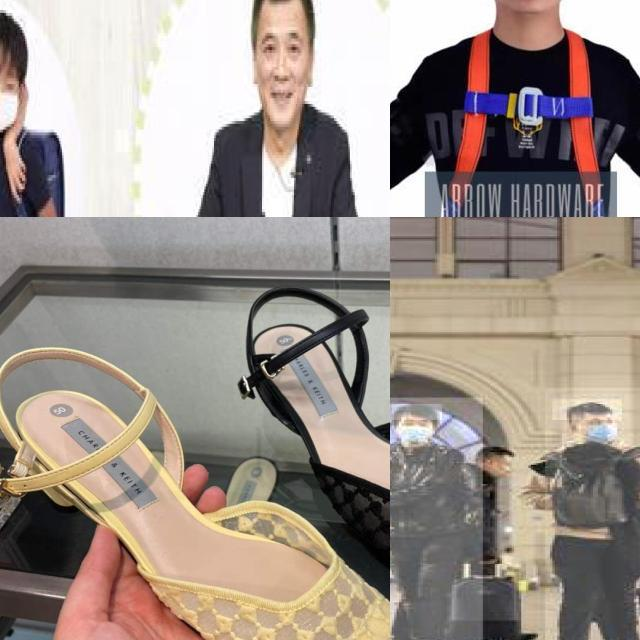Harness: (447, 31, 603, 217)
Sandals: (0, 337, 390, 640), (219, 274, 390, 640)
face_mask: (0, 61, 18, 132), (576, 414, 617, 441), (397, 416, 432, 442)
face_nomask: (254, 22, 308, 126), (492, 458, 512, 478)
hand_noglove: (2, 147, 29, 209)
head_nohelmet: (244, 0, 311, 32), (552, 399, 622, 420), (0, 16, 27, 67), (392, 404, 442, 420)
person: (545, 388, 640, 640), (390, 397, 485, 640)
